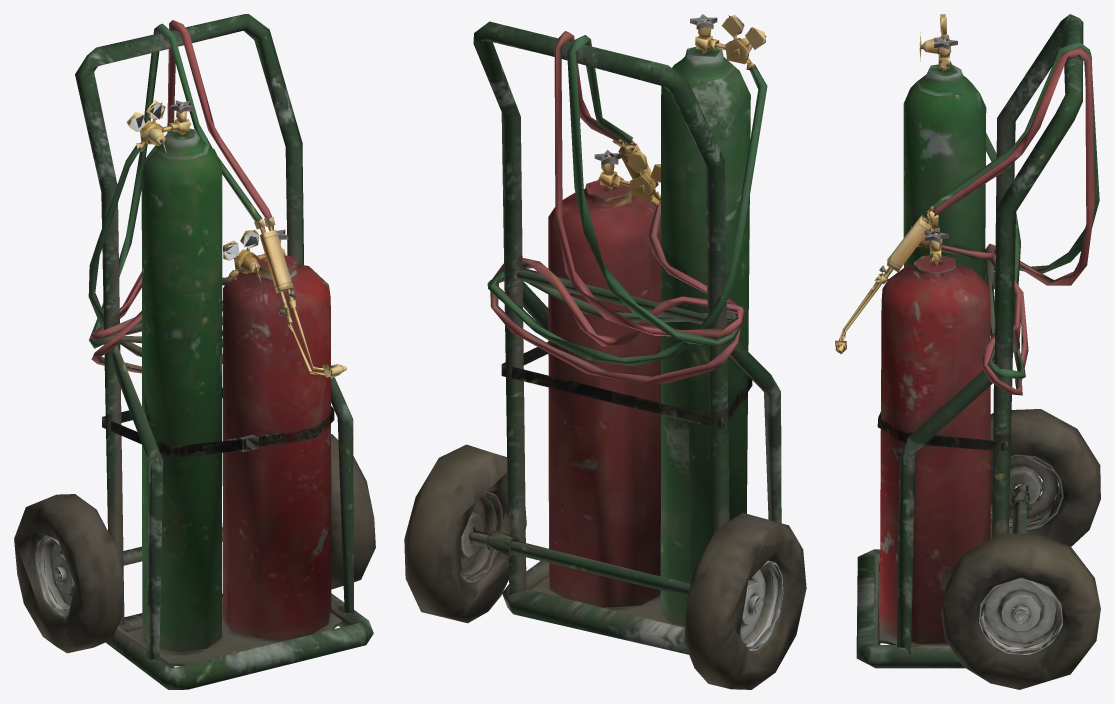
File: portable_welding_cart.glb
3 renders of one model, left to right at view 1: azimuth 30°, elevation 25°; view 2: azimuth 150°, elevation 25°; view 3: azimuth 270°, elevation 25°, orthographic. The views are drawn at different scales.
Visible parts, largest first — view 1: portable_welding_cart; view 2: portable_welding_cart; view 3: portable_welding_cart.
Boxes of the visible parts, x1,y1,x2,y2 form: portable_welding_cart: (14, 14, 375, 689); portable_welding_cart: (404, 14, 806, 689); portable_welding_cart: (835, 14, 1100, 689).
Size of the model in its own units: 0.8374 by 1.56 by 0.653.
Materials: 2 (2 with a texture image).
